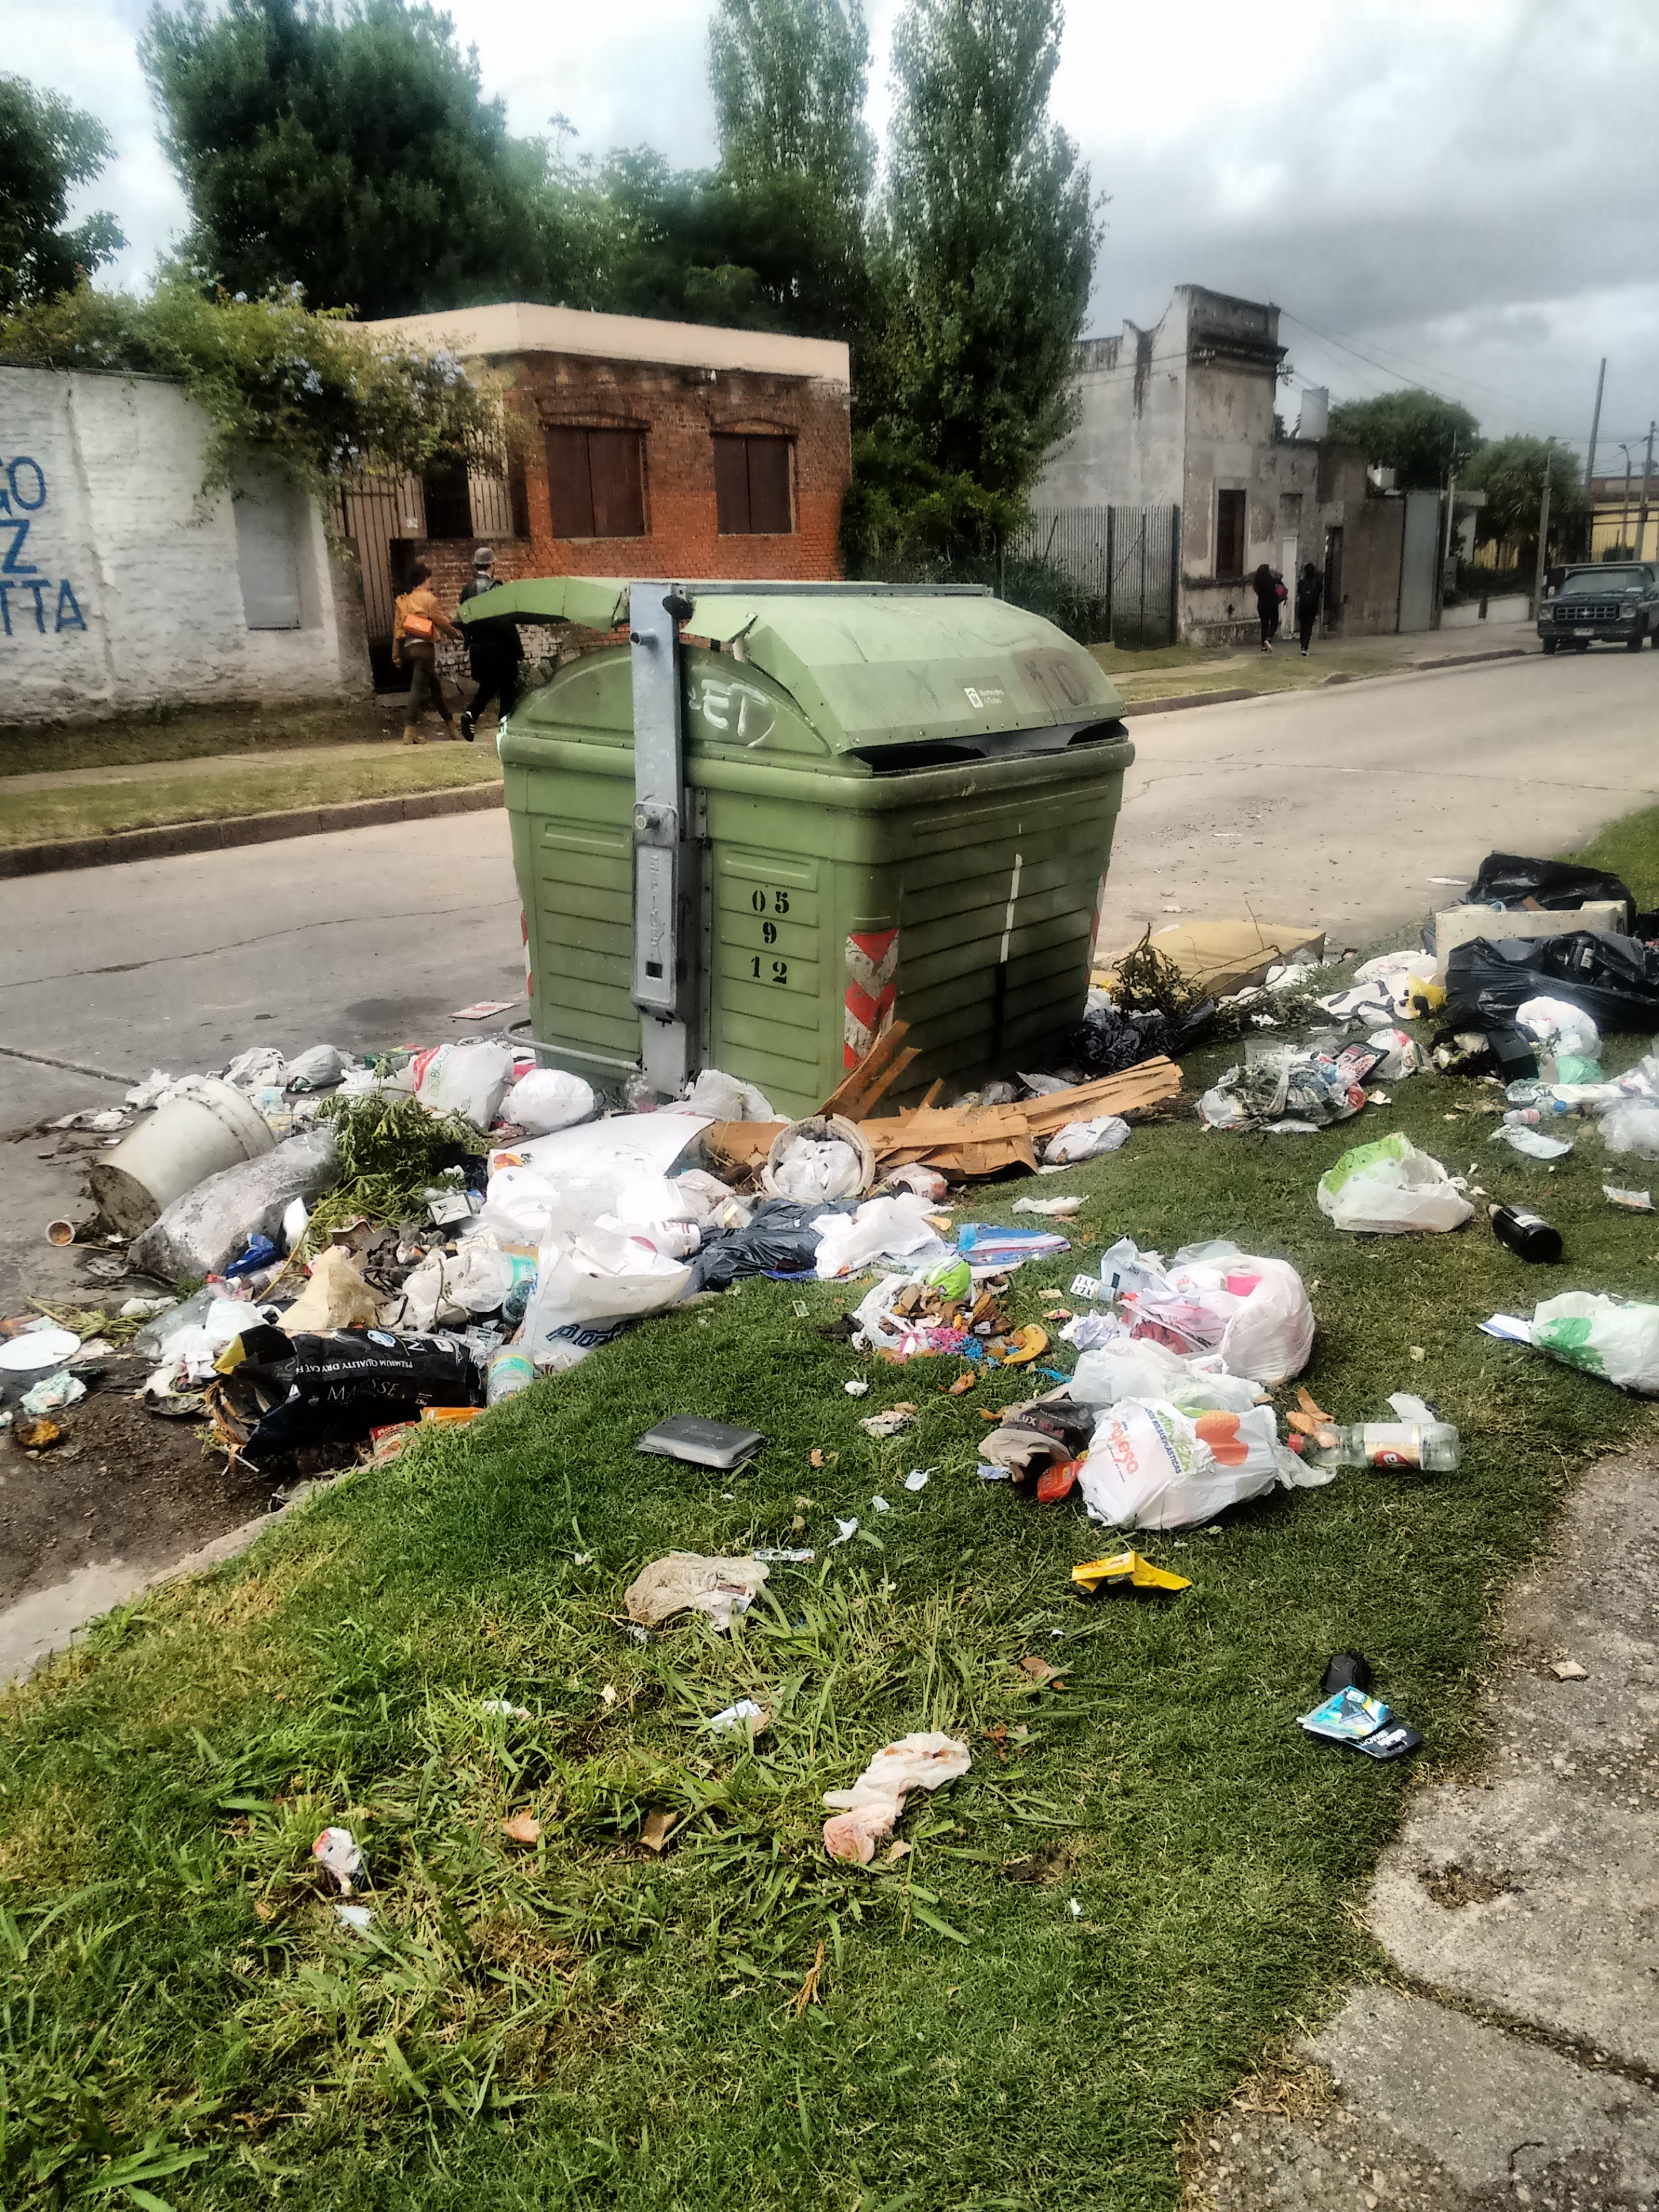container: (443, 559, 1141, 1101)
